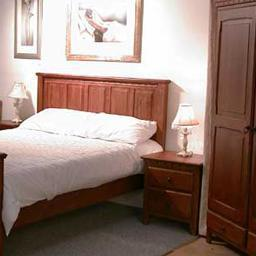Armario: (206, 0, 255, 254)
Cama: (2, 76, 169, 233)
